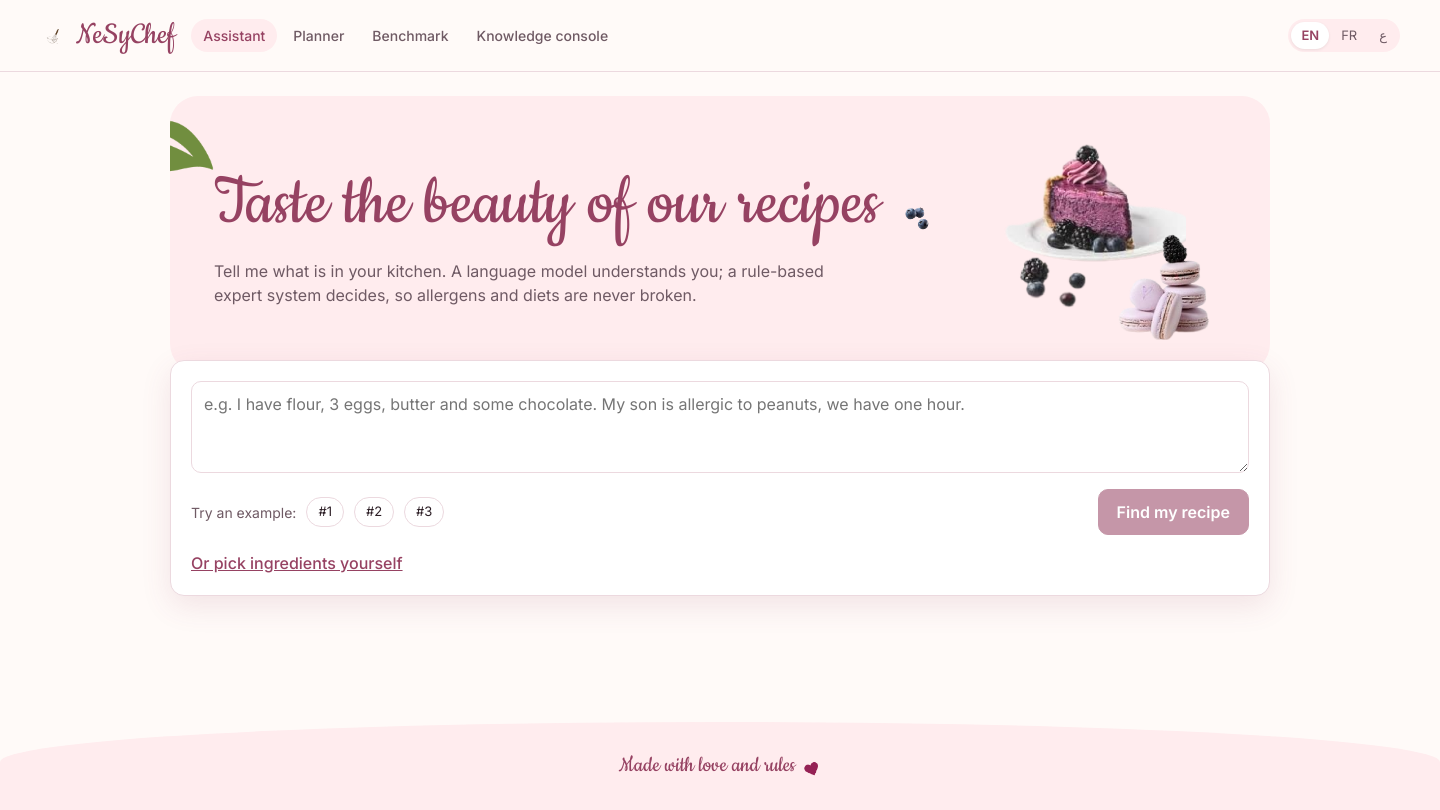
Test: NeSyChef UI › switches to Arabic with right-to-left layout
Click the button "ع": {"x": 1383, "y": 36} [1369,22,1397,49]
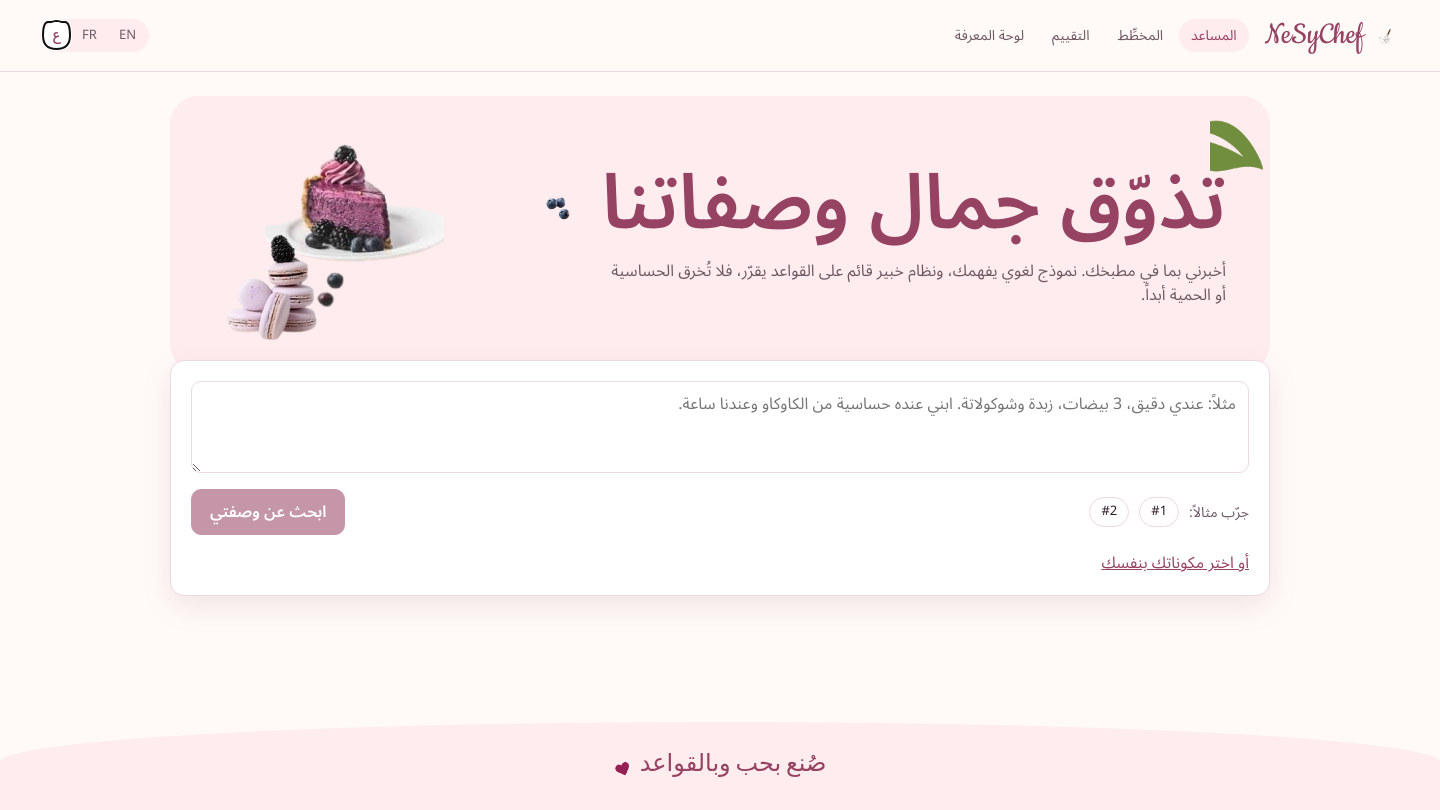
Expected: the button "ابحث عن وصفتي" is shown, [191,489,346,535]
